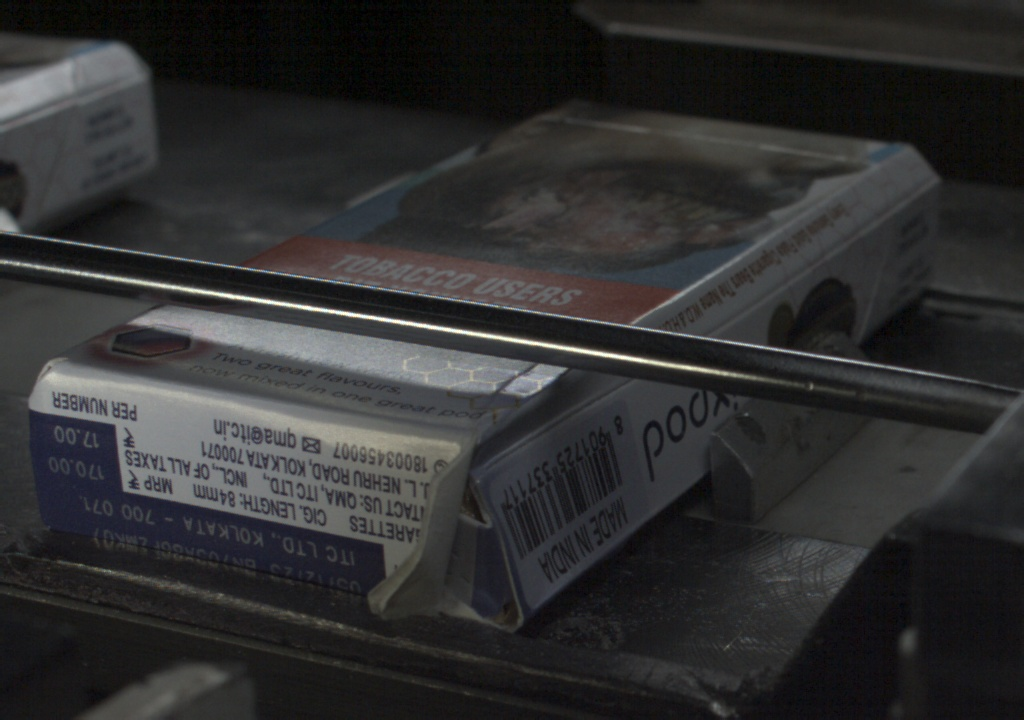g_label: (36, 489, 386, 604)
g_lmiter: (712, 270, 803, 330), (803, 208, 891, 270)
g_miter: (893, 172, 939, 208)
ng_bottom: (374, 434, 532, 627)
price: (35, 417, 118, 489)
